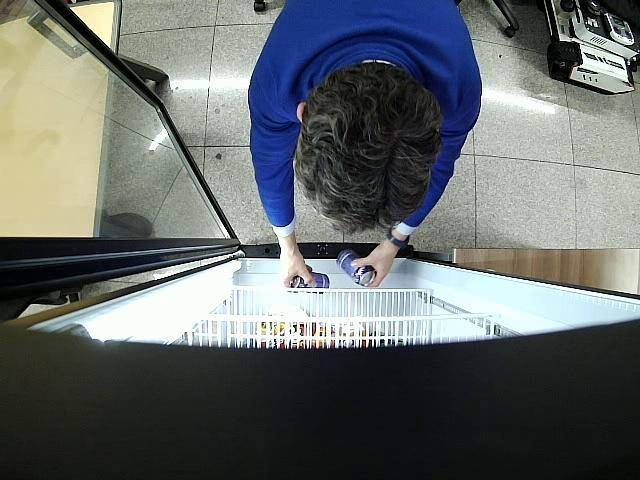14_welchsGrape: (337, 250, 376, 286), (292, 272, 330, 294)
